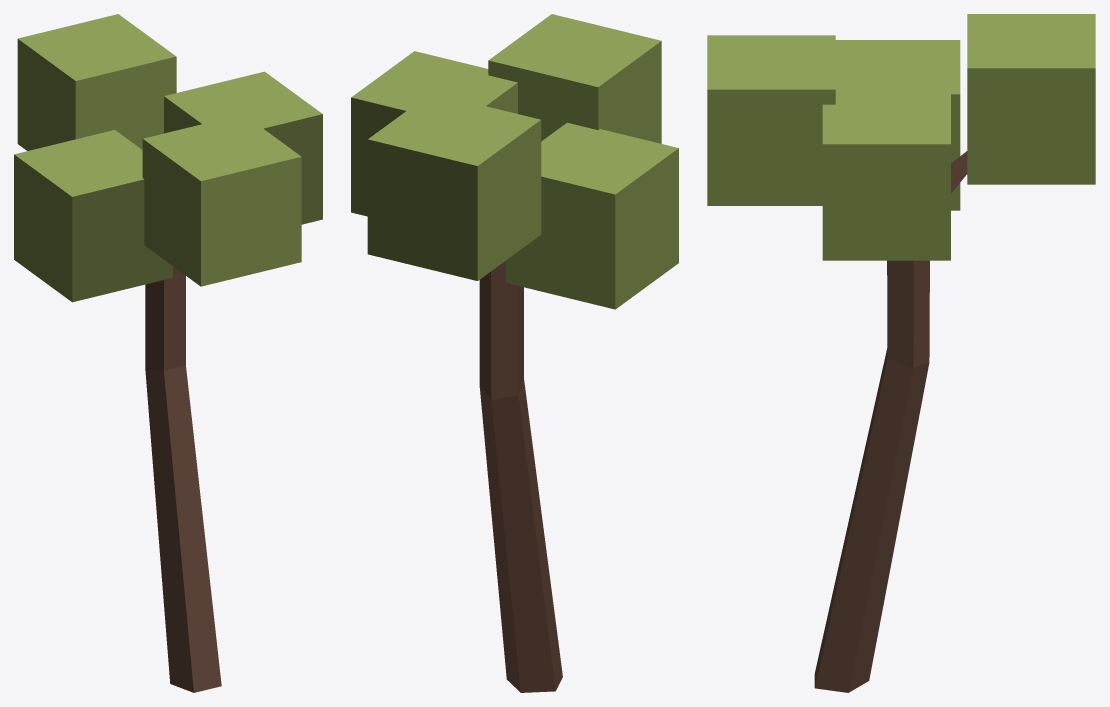
The model's file is freeTreeOne.glb.
3 views of the same model, side by side, from view 1: azimuth 30°, elevation 25°; view 2: azimuth 150°, elevation 25°; view 3: azimuth 270°, elevation 25° (orthographic). The views are drawn at different scales.
Visible parts, largest first — view 1: tree; view 2: tree; view 3: tree.
Boxes of the visible parts, x1,y1,x2,y2 form: tree: [14, 14, 322, 692]; tree: [351, 14, 678, 692]; tree: [707, 14, 1095, 692].
Size of what is drawn, in the model's own units: 3.04 by 6.75 by 3.75.
1 material, 1 textured.
